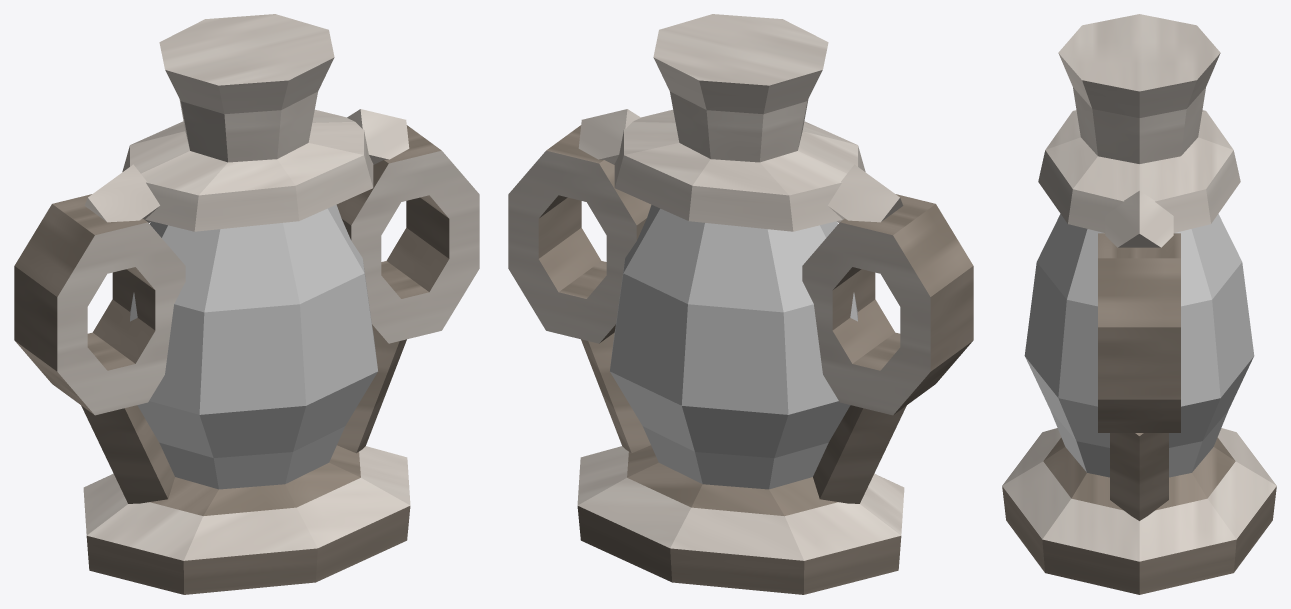
Rendered from cutout.obj.
3 renders of one model, left to right at view 1: azimuth 30°, elevation 25°; view 2: azimuth 150°, elevation 25°; view 3: azimuth 270°, elevation 25°, orthographic. The views are drawn at different scales.
Bounding box in the file's own units: 0.589 × 0.6431 × 0.3425.
